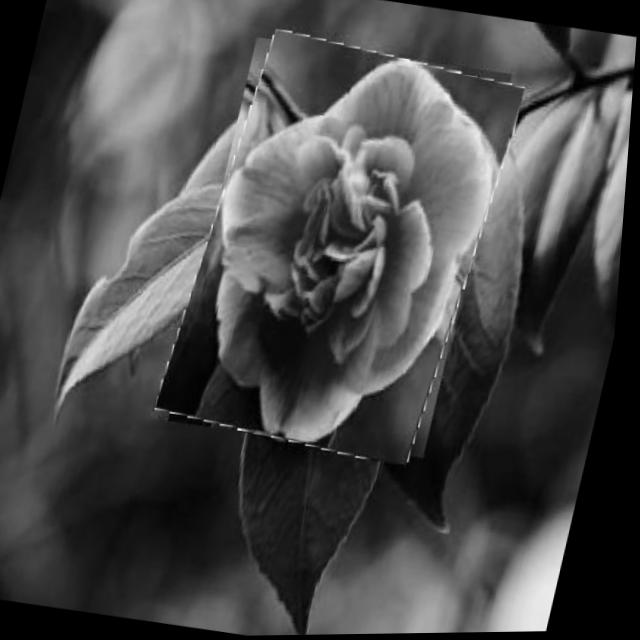Flower: (162, 28, 527, 471)
